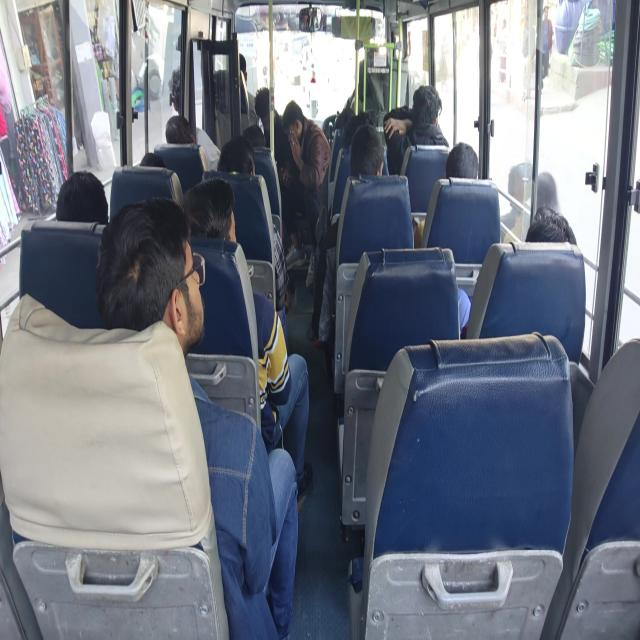person: (121, 225, 216, 332), (56, 175, 116, 237), (443, 128, 487, 192), (514, 219, 580, 255), (348, 136, 389, 188), (404, 76, 437, 136), (175, 59, 199, 125), (286, 106, 316, 155), (133, 143, 176, 176), (235, 122, 282, 151), (159, 120, 196, 154), (252, 75, 273, 132), (212, 140, 252, 169), (223, 30, 247, 70), (338, 104, 363, 140), (358, 36, 381, 61)
